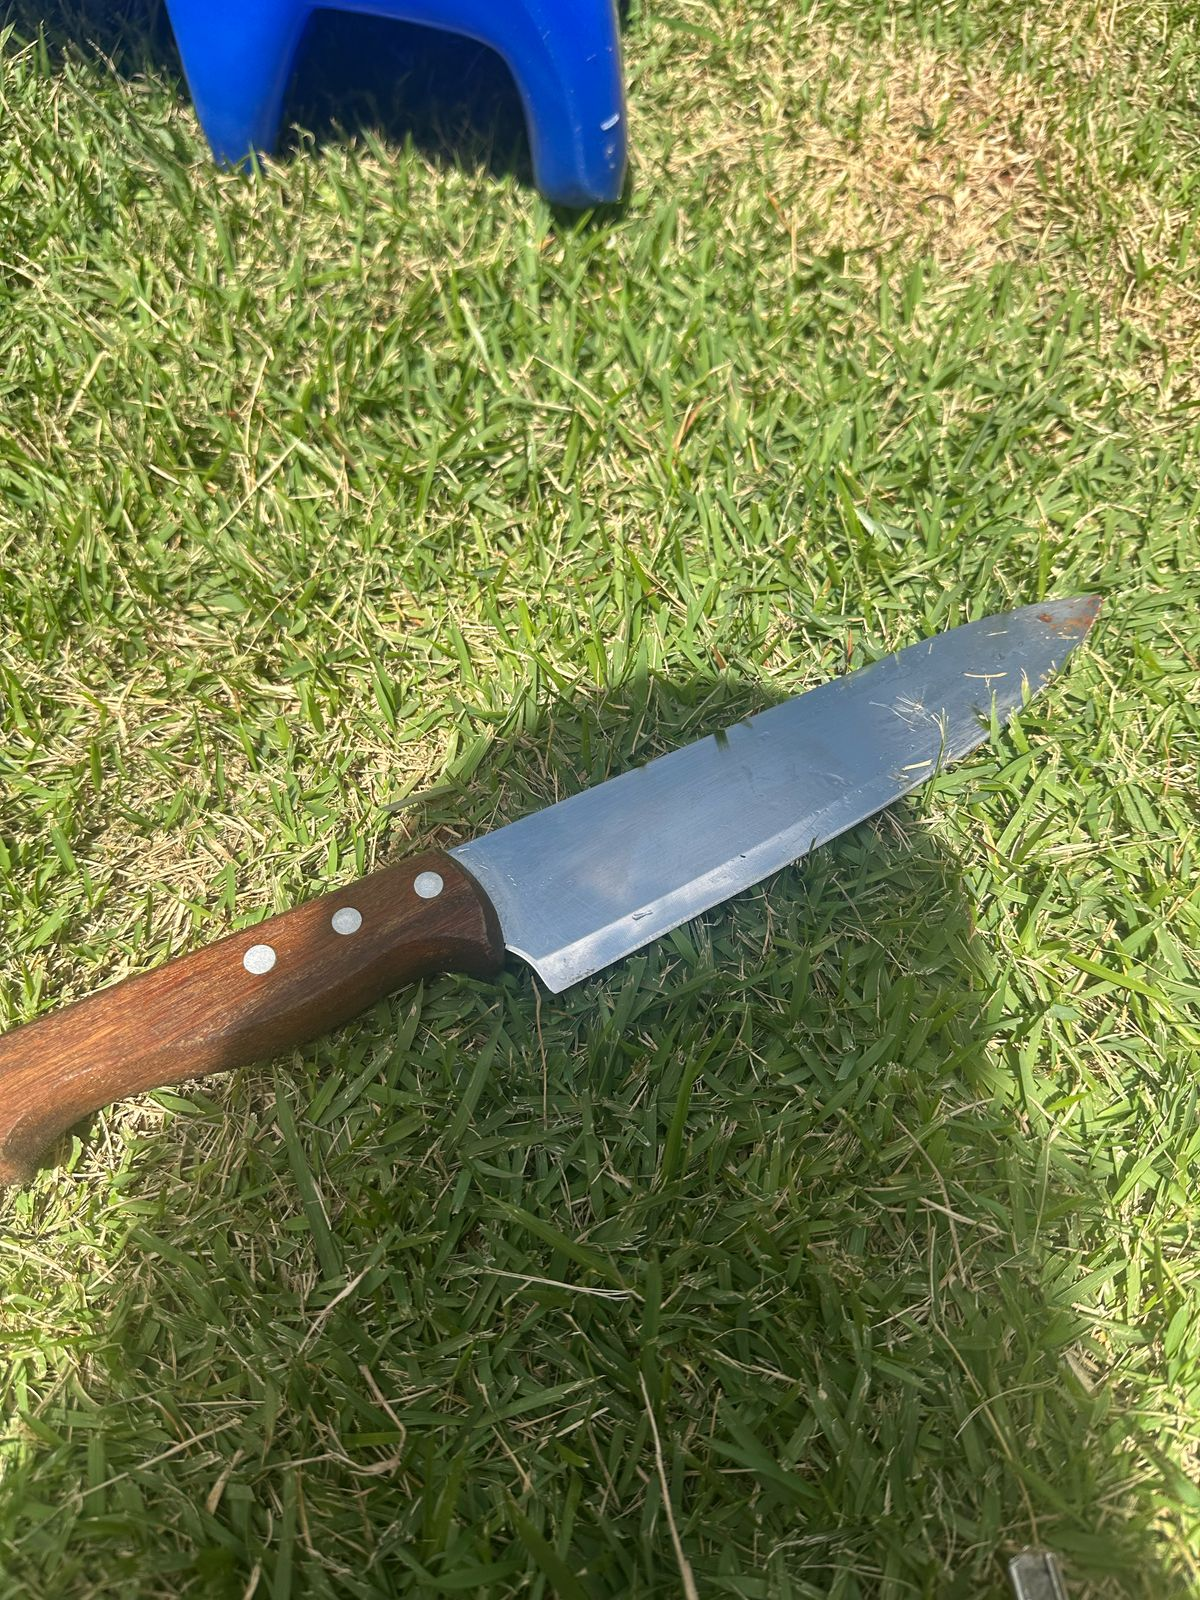faca: (49, 549, 1137, 1143)
